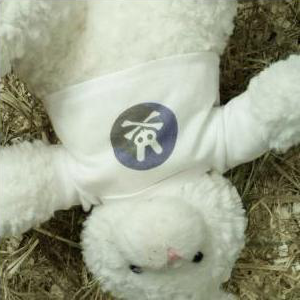badge: (110, 102, 180, 171)
